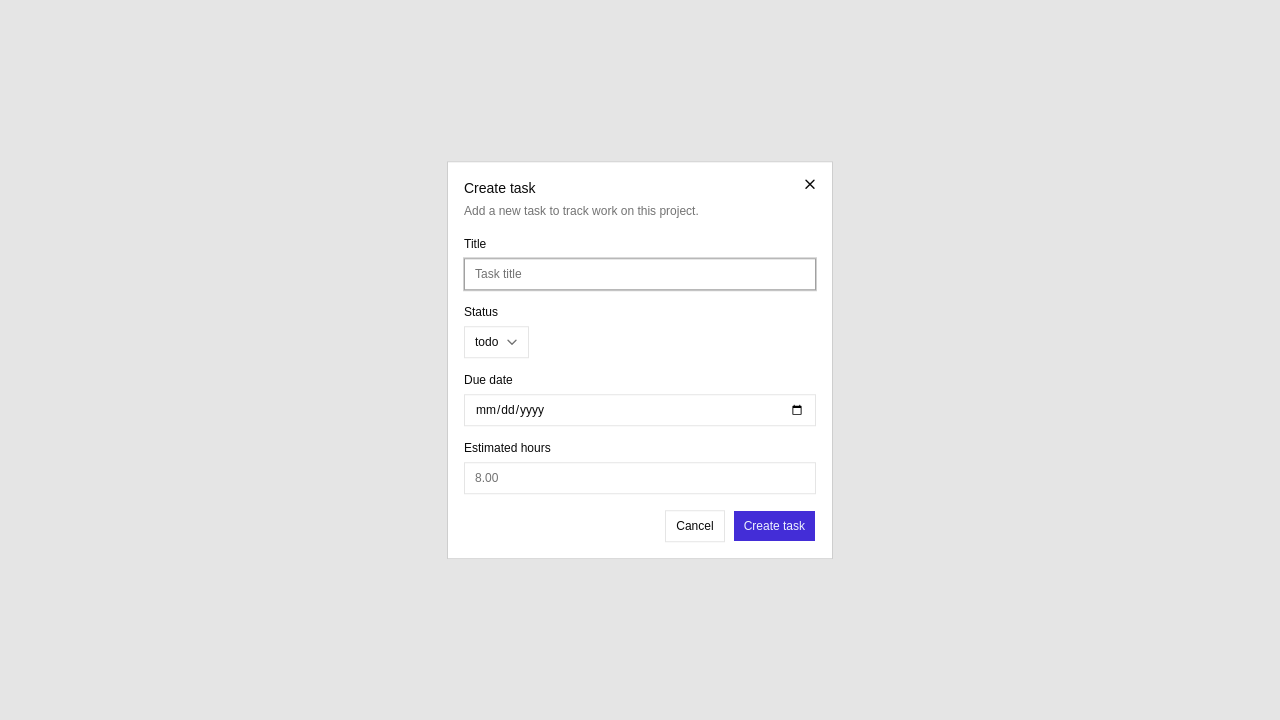
TaskFormDialog › maps 422 validation errors to form fields
The width and height of the screenshot is (1280, 720).
Type "Duplicate Task" into the field labelled "Title".
click(640, 274); type("Duplicate Task")  # box x1=464 y1=258 x2=816 y2=290
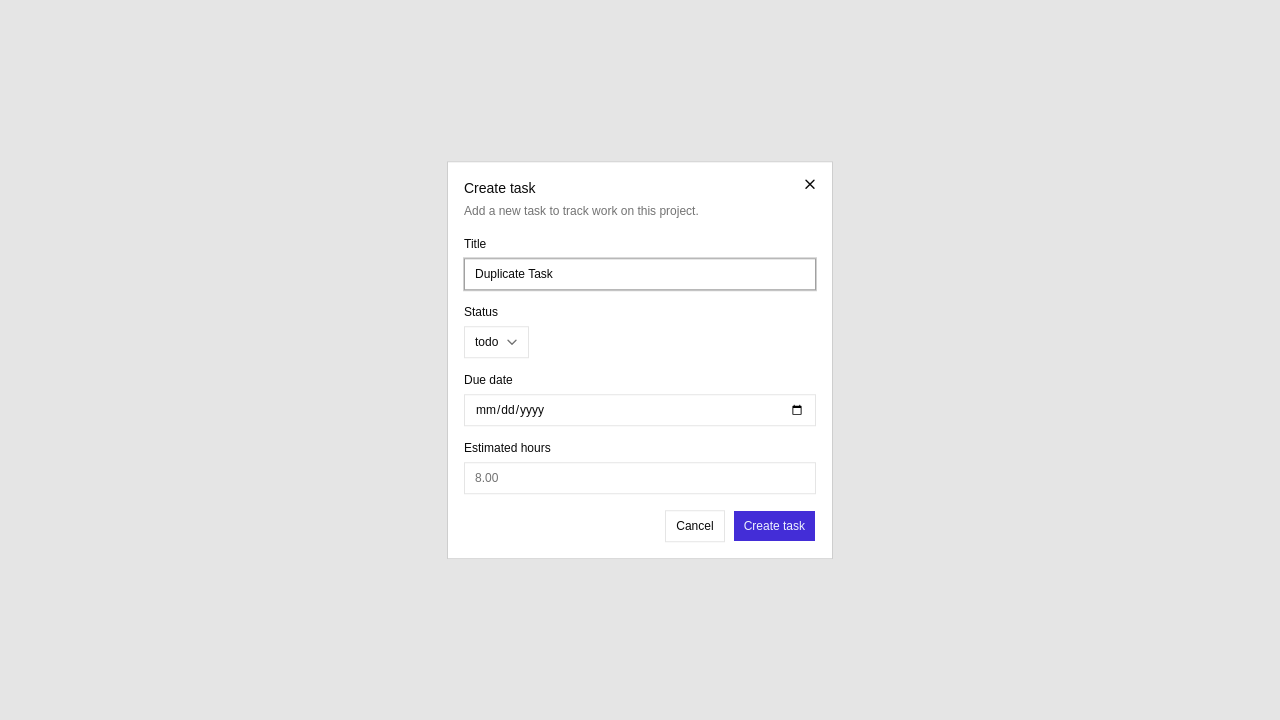
Click the button "Create task".
click(774, 526)  # box x1=733 y1=510 x2=816 y2=542
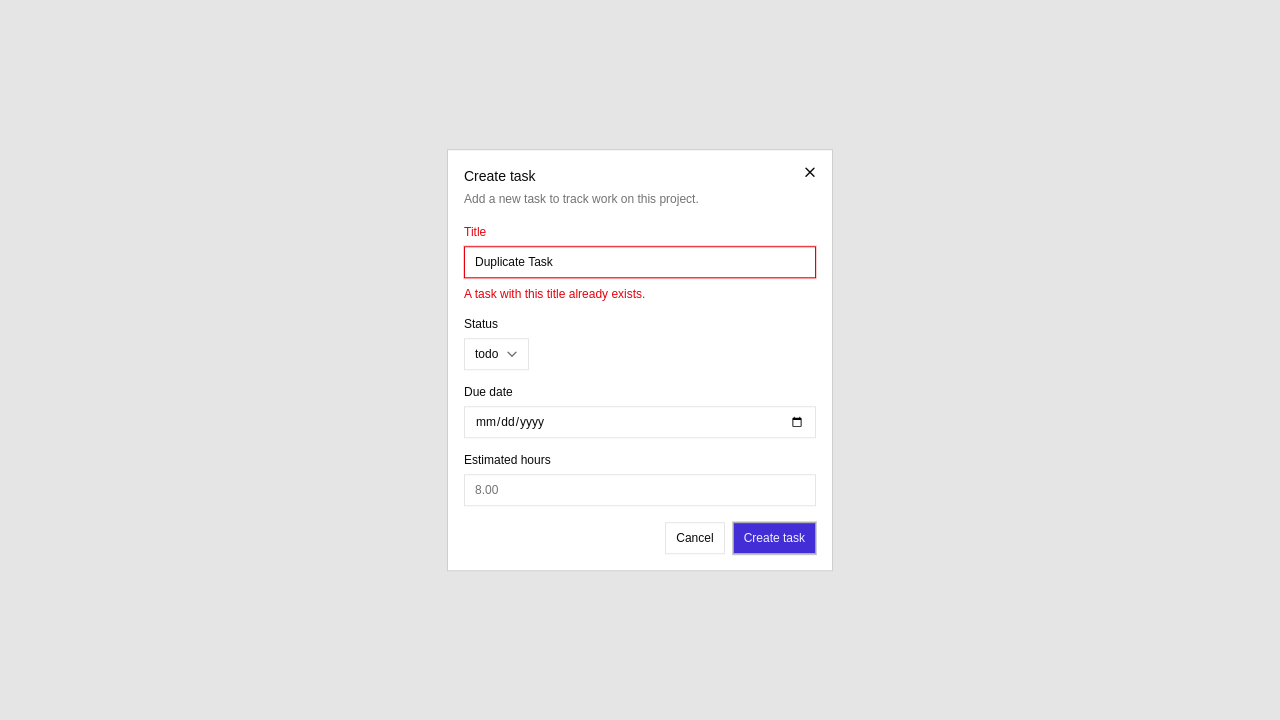
expect the text "A task with this title already exists." is shown: met, box x1=464 y1=287 x2=645 y2=301
